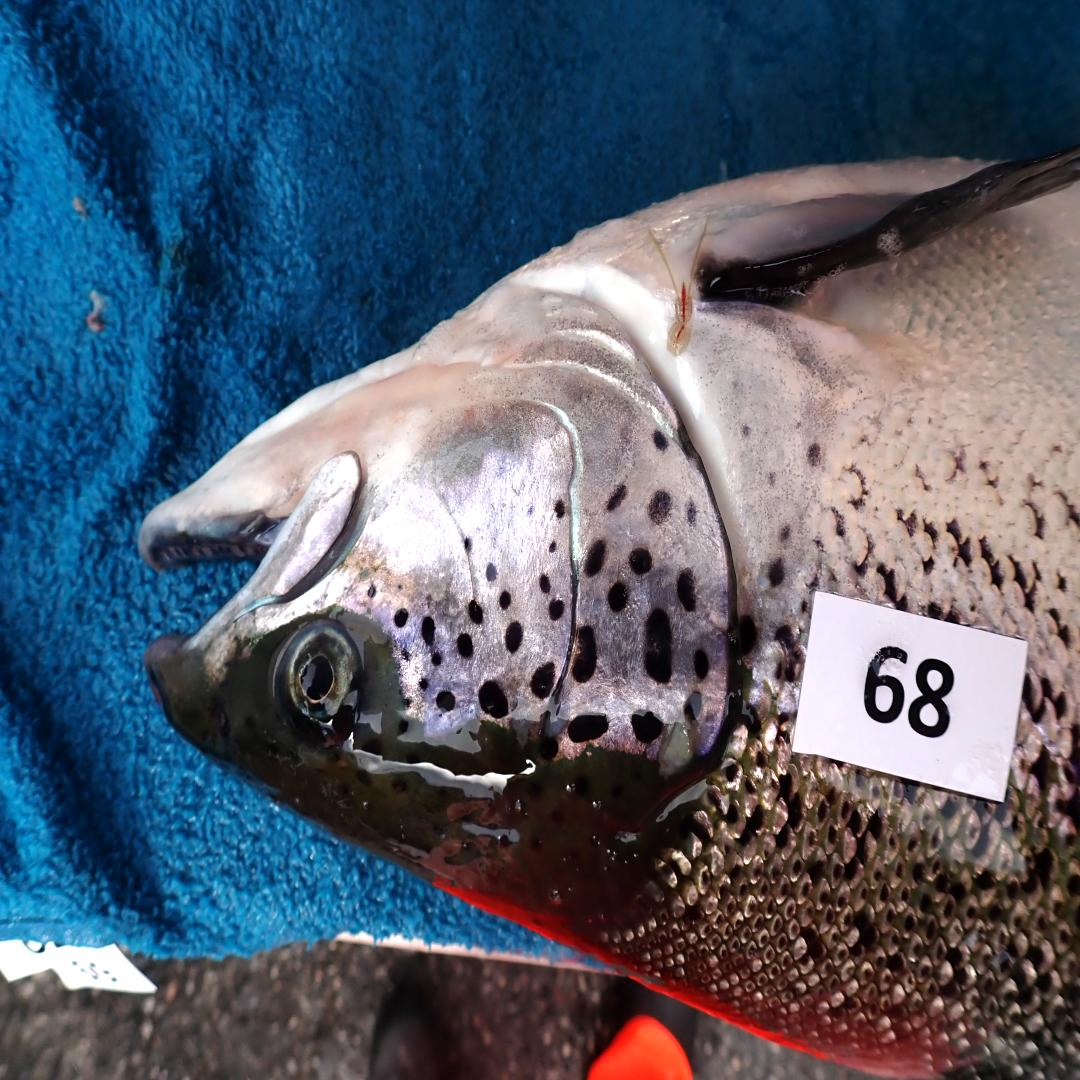roi: (367, 278, 732, 757)
